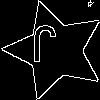J: (30, 25, 57, 72)
